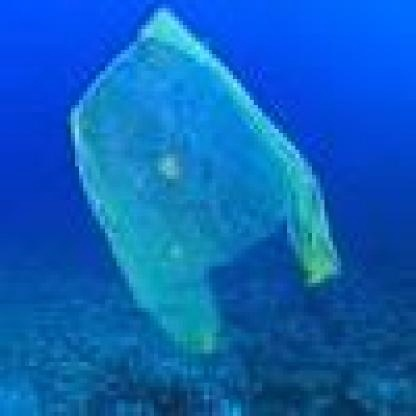pbag: (67, 4, 341, 358)
